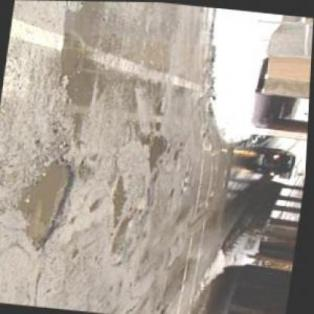Hueco: (11, 153, 81, 252), (107, 208, 143, 267), (110, 173, 133, 226), (145, 132, 174, 173)
